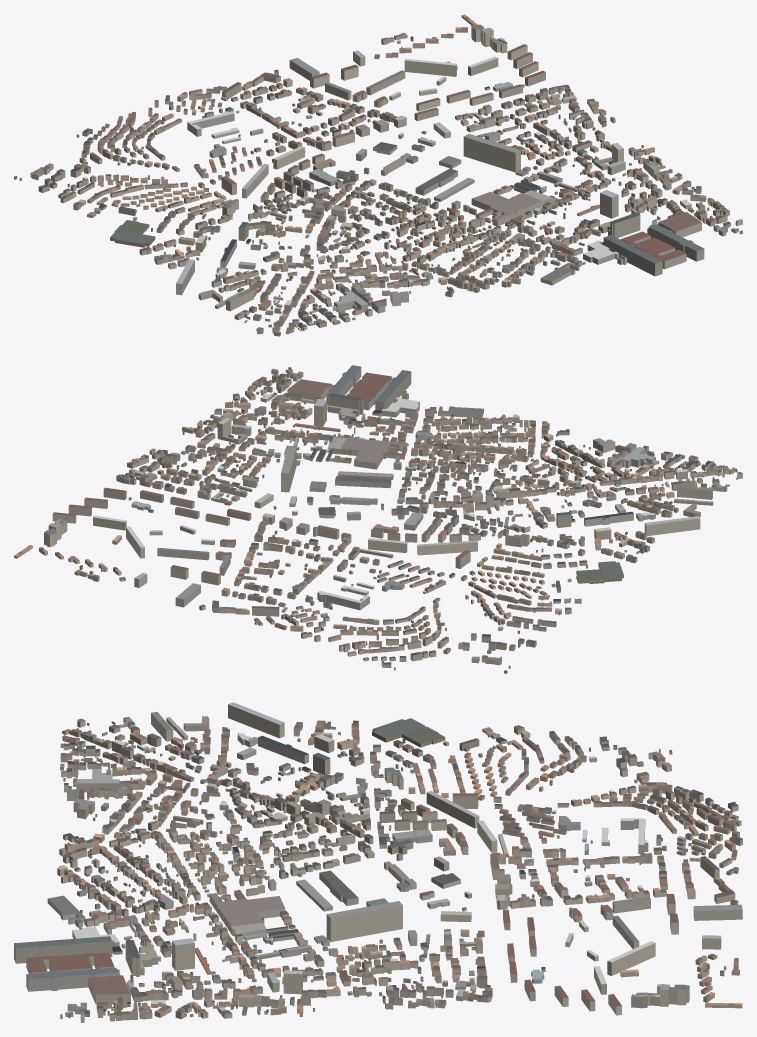
The picture shows the model from 3 angles, top to bottom: view 1: azimuth 30°, elevation 25°; view 2: azimuth 150°, elevation 25°; view 3: azimuth 270°, elevation 25°; orthographic projection. The views are drawn at different scales.
Parts seen in each view (by area): view 1: tuile; view 2: tuile; view 3: tuile.
Boxes of the visible parts, box(x1,y1,x2,y2) form: tuile: box(14, 14, 742, 336); tuile: box(14, 365, 742, 673); tuile: box(14, 702, 742, 1022).
Size of the model in its own units: 1054 by 84.04 by 1076.
